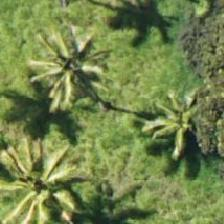coconut_tree: (124, 79, 214, 169), (0, 141, 89, 223)
